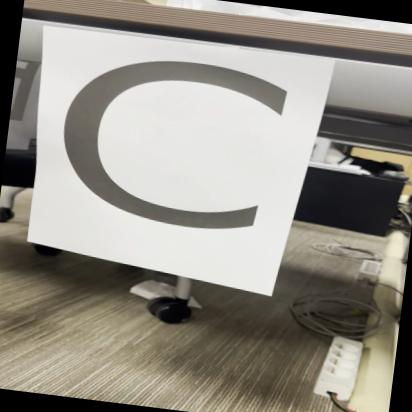seat: (20, 26, 302, 288)
